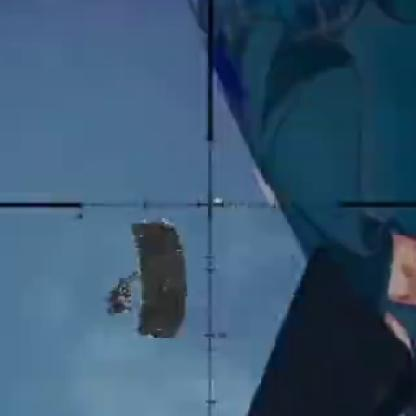enemy: (105, 276, 133, 314)
